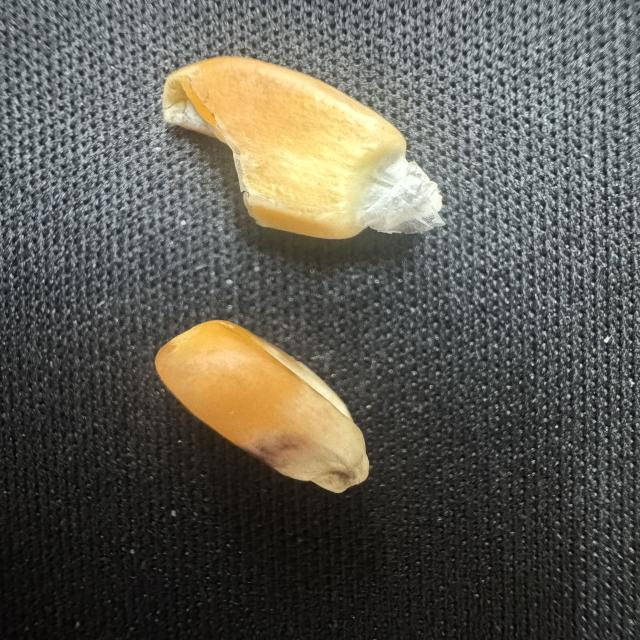Bad-Seed: (148, 49, 454, 246), (147, 313, 384, 498)
